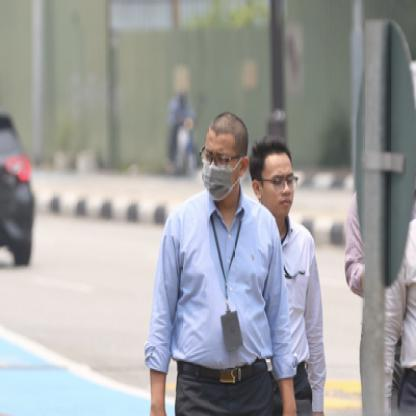with_mask: (201, 148, 238, 202)
without_mask: (261, 168, 294, 216)
